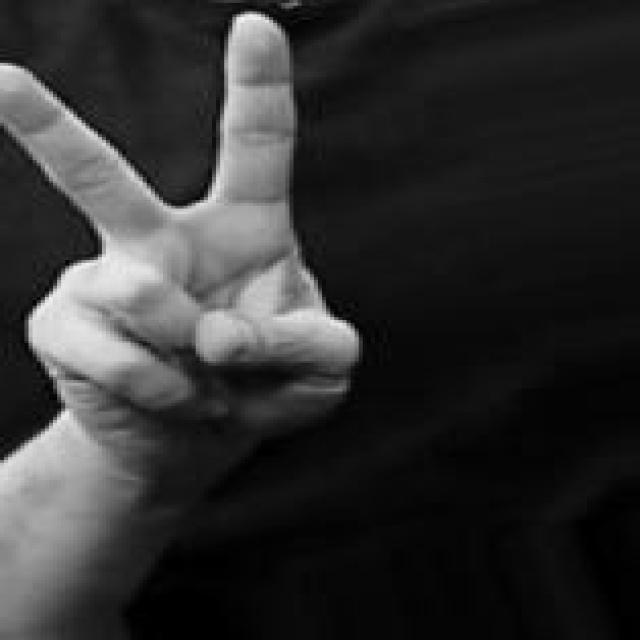V: (0, 9, 364, 480)
